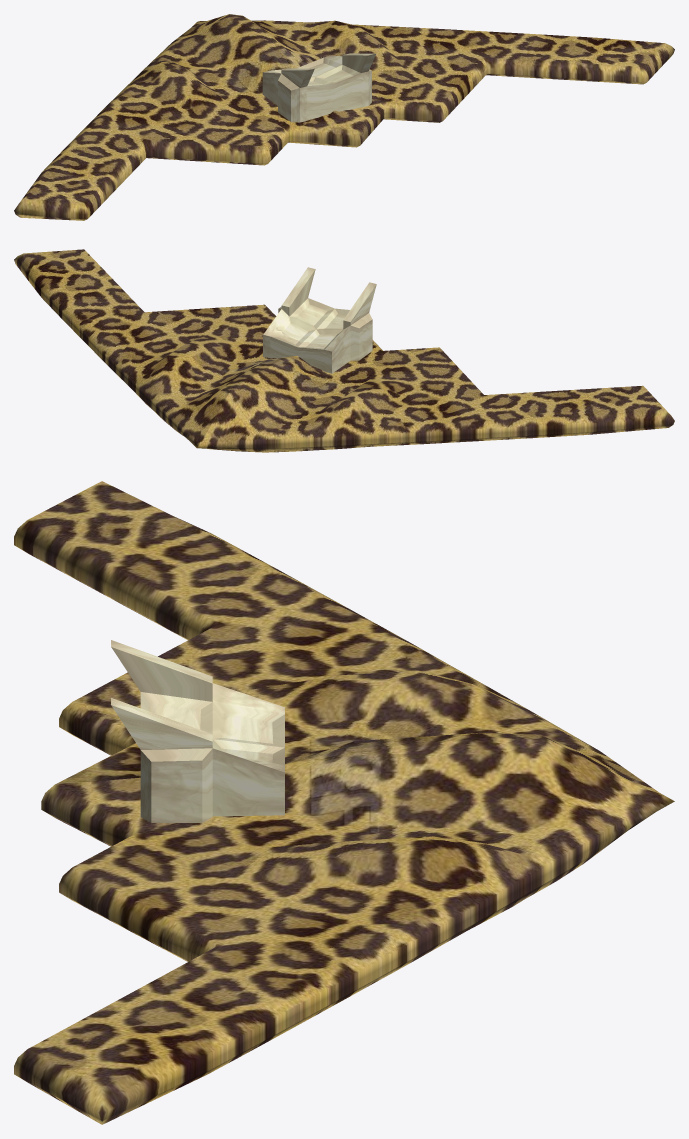
3 views of the same model, one above another, from view 1: azimuth 30°, elevation 25°; view 2: azimuth 150°, elevation 25°; view 3: azimuth 270°, elevation 25° (orthographic). The views are drawn at different scales.
Parts seen in each view (by area): view 1: B2, Box01; view 2: B2, Box01; view 3: B2, Box01.
Boxes of the visible parts, left/top/right/bottom form: B2: left=14, top=14, right=674, bottom=220; Box01: left=262, top=53, right=375, bottom=122; B2: left=14, top=249, right=674, bottom=452; Box01: left=263, top=267, right=376, bottom=373; B2: left=14, top=481, right=674, bottom=1124; Box01: left=111, top=640, right=284, bottom=822.
Bounding box in the file's own units: 237 × 27.96 × 106.
Materials: 2 (2 with a texture image).
